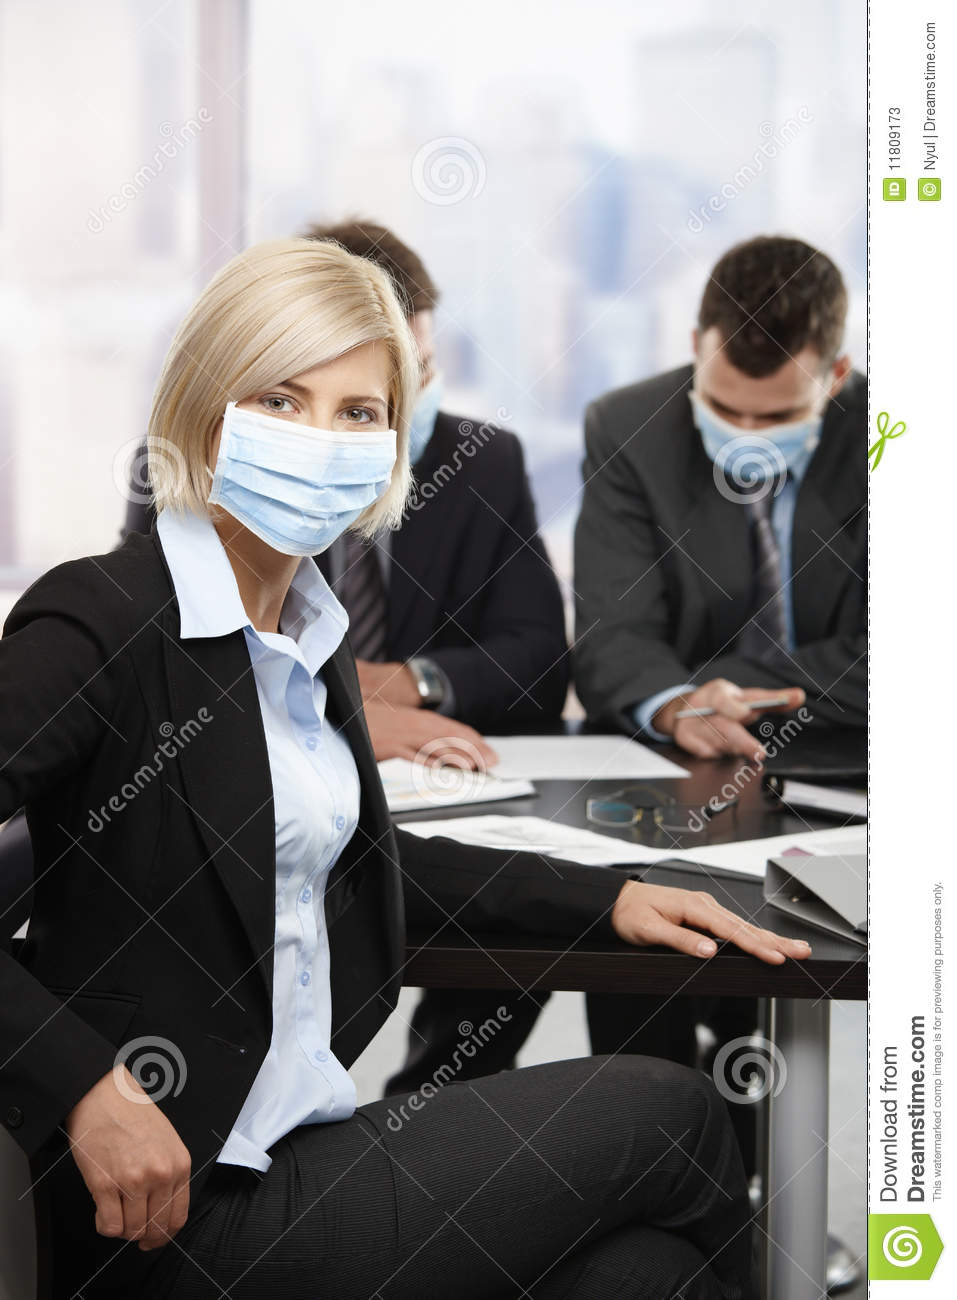mask: (201, 402, 397, 554)
